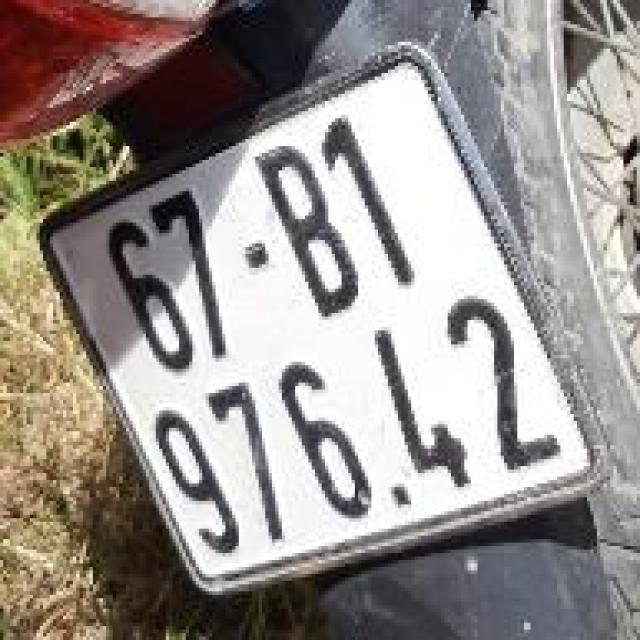1: (299, 95, 442, 311)
2: (432, 269, 580, 485)
4: (353, 308, 491, 509)
6: (266, 342, 391, 538), (86, 200, 210, 388)
7: (135, 170, 255, 383), (199, 372, 306, 555)
9: (139, 388, 255, 568)
B: (236, 121, 381, 335)
